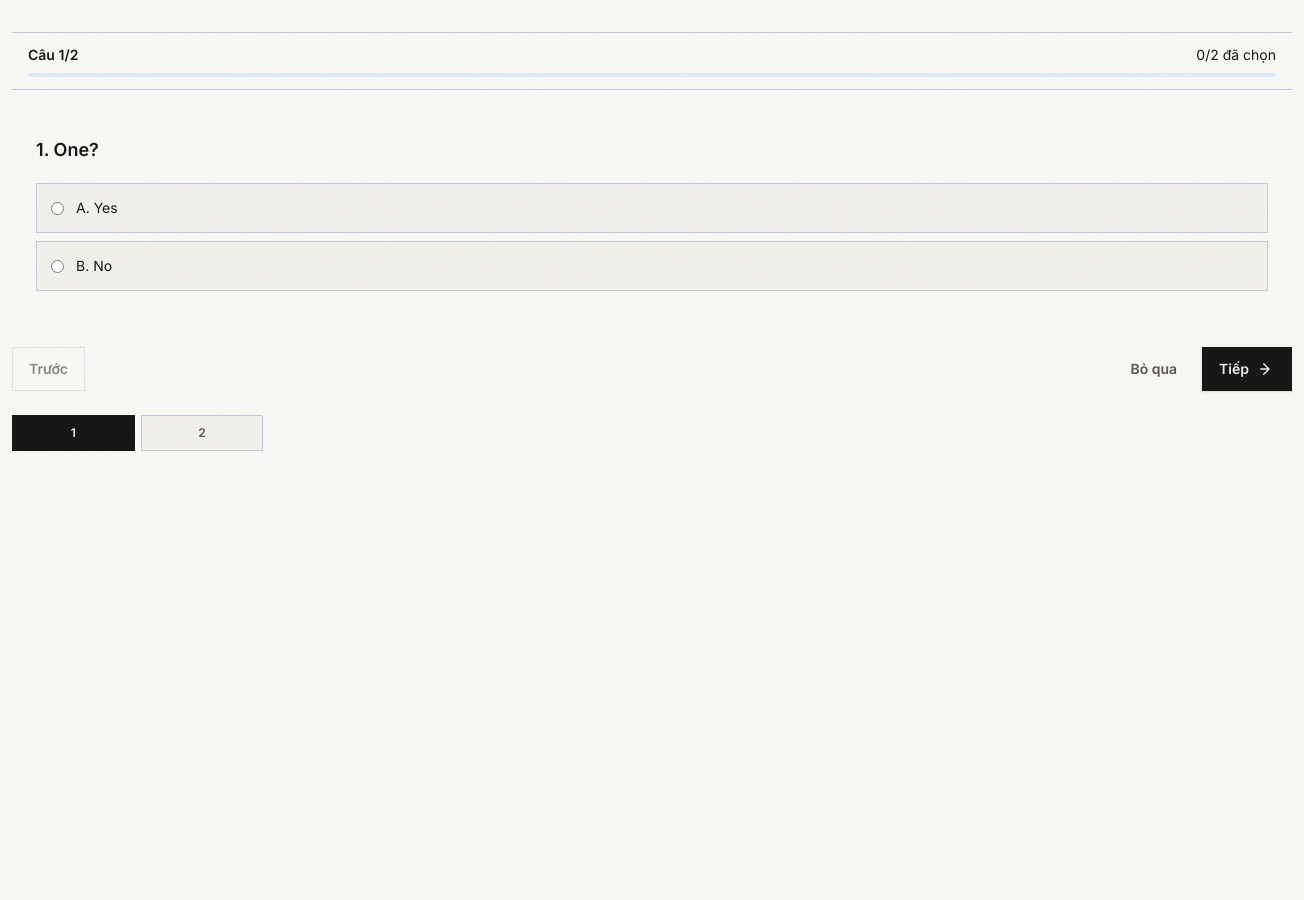
Test: TestRunner › saves guest attempts without asking for login
Click the radio button labelled "A. Yes" at [58, 208], box [51,202,64,215]
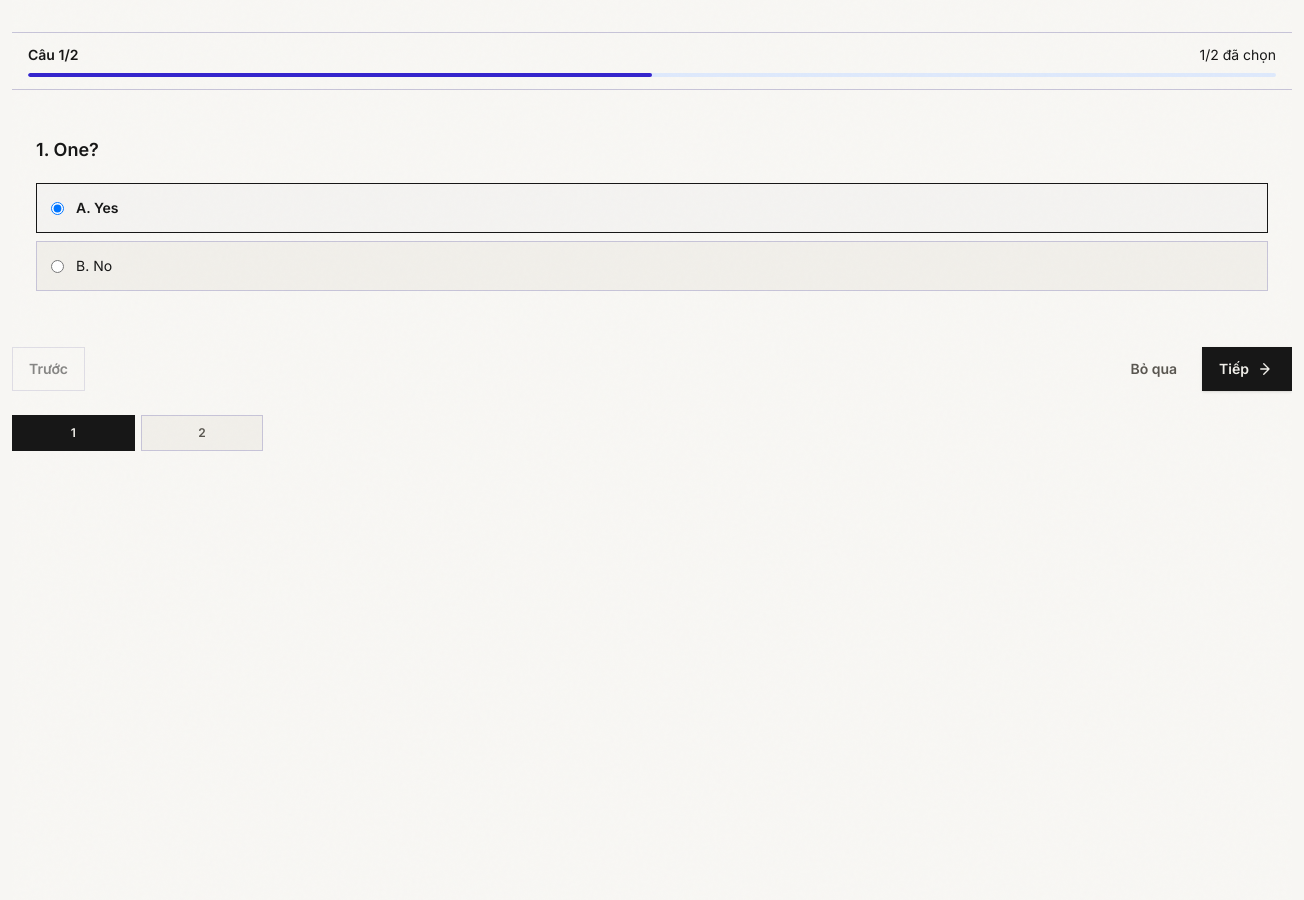
Click the button "Tiếp" at [1247, 369], box [1202,347,1292,391]
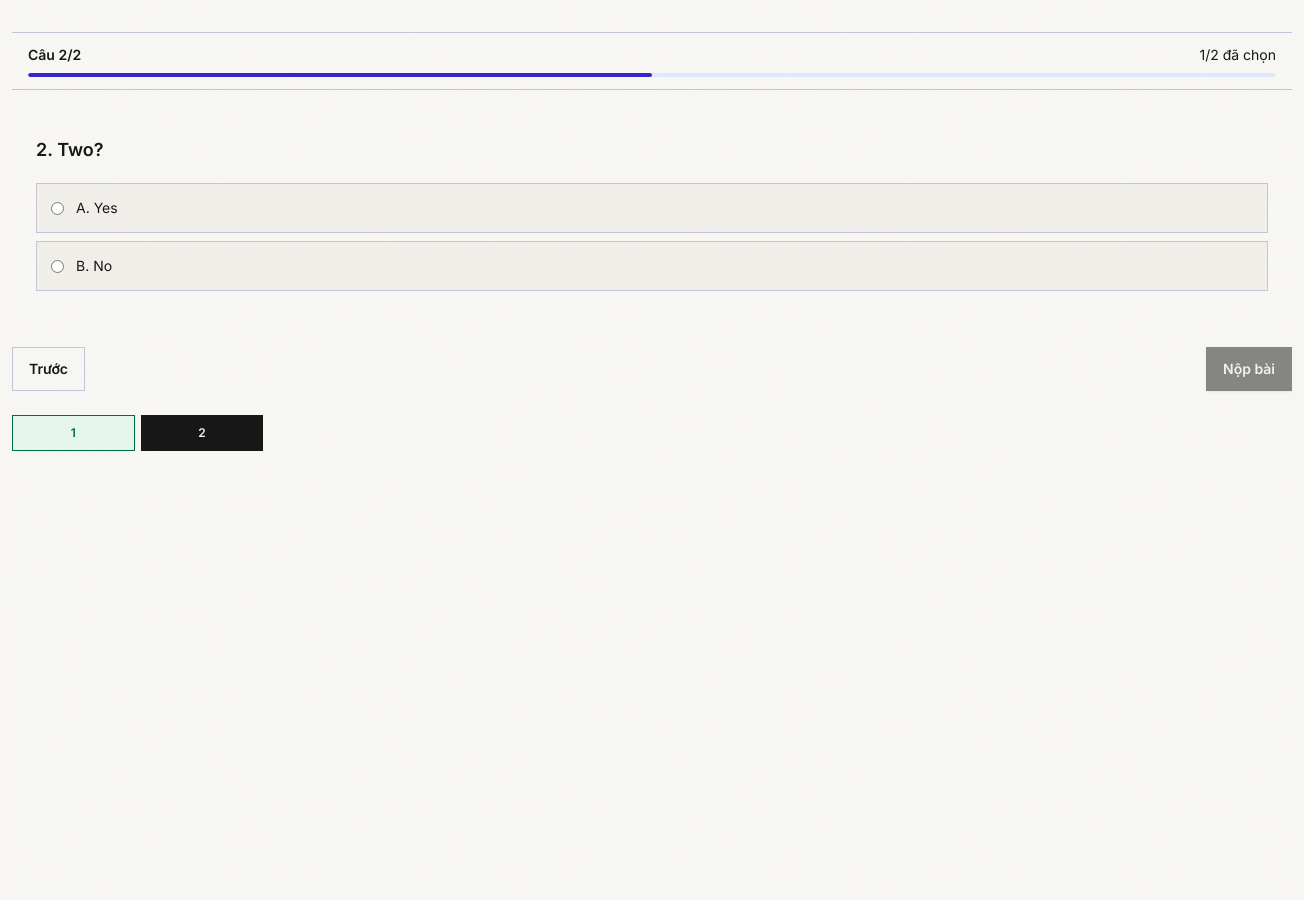
Click the radio button labelled "A. Yes" at [58, 208], box [51,202,64,215]
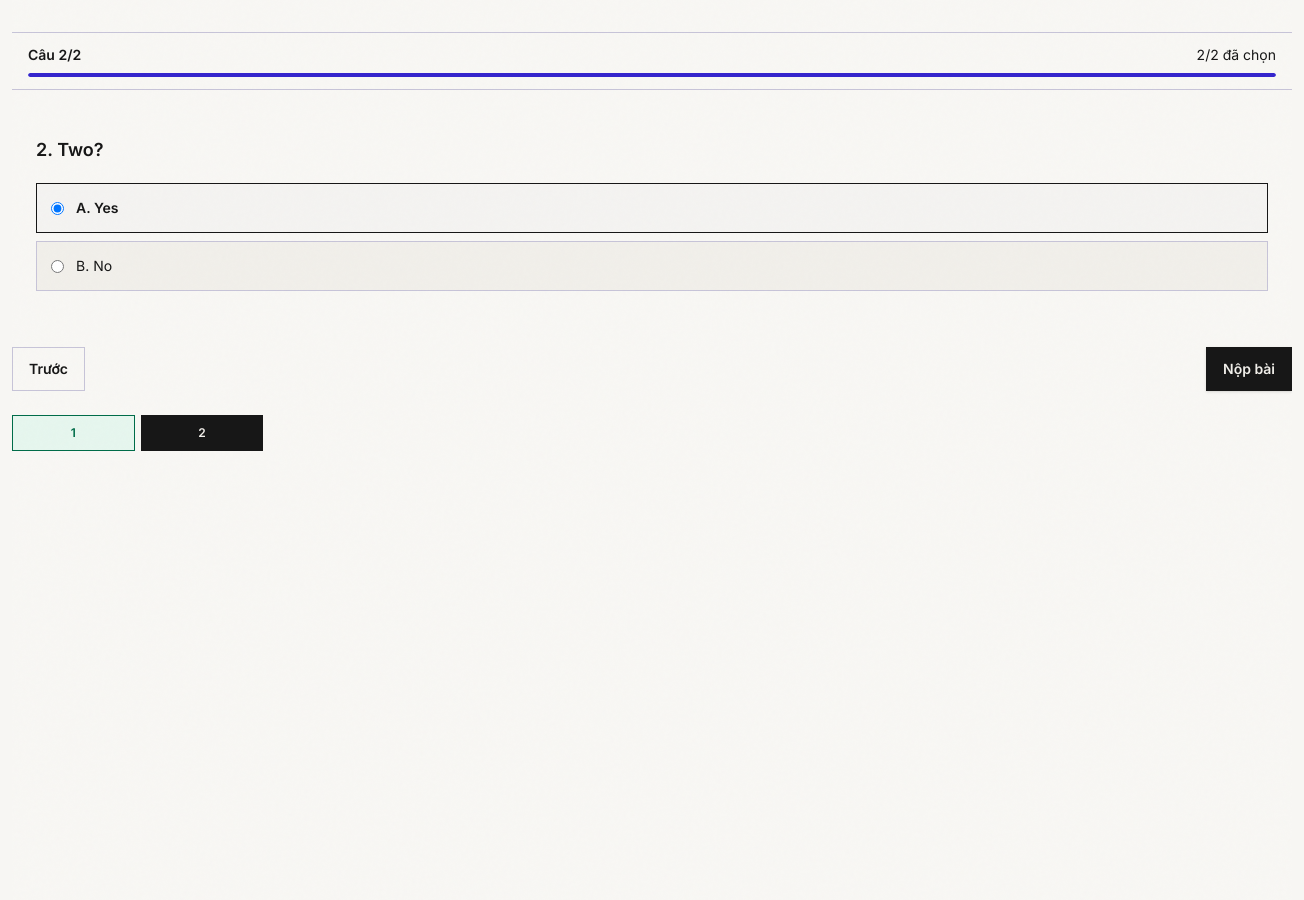
Click the button "Nộp bài" at [1249, 369], box [1206,347,1292,391]
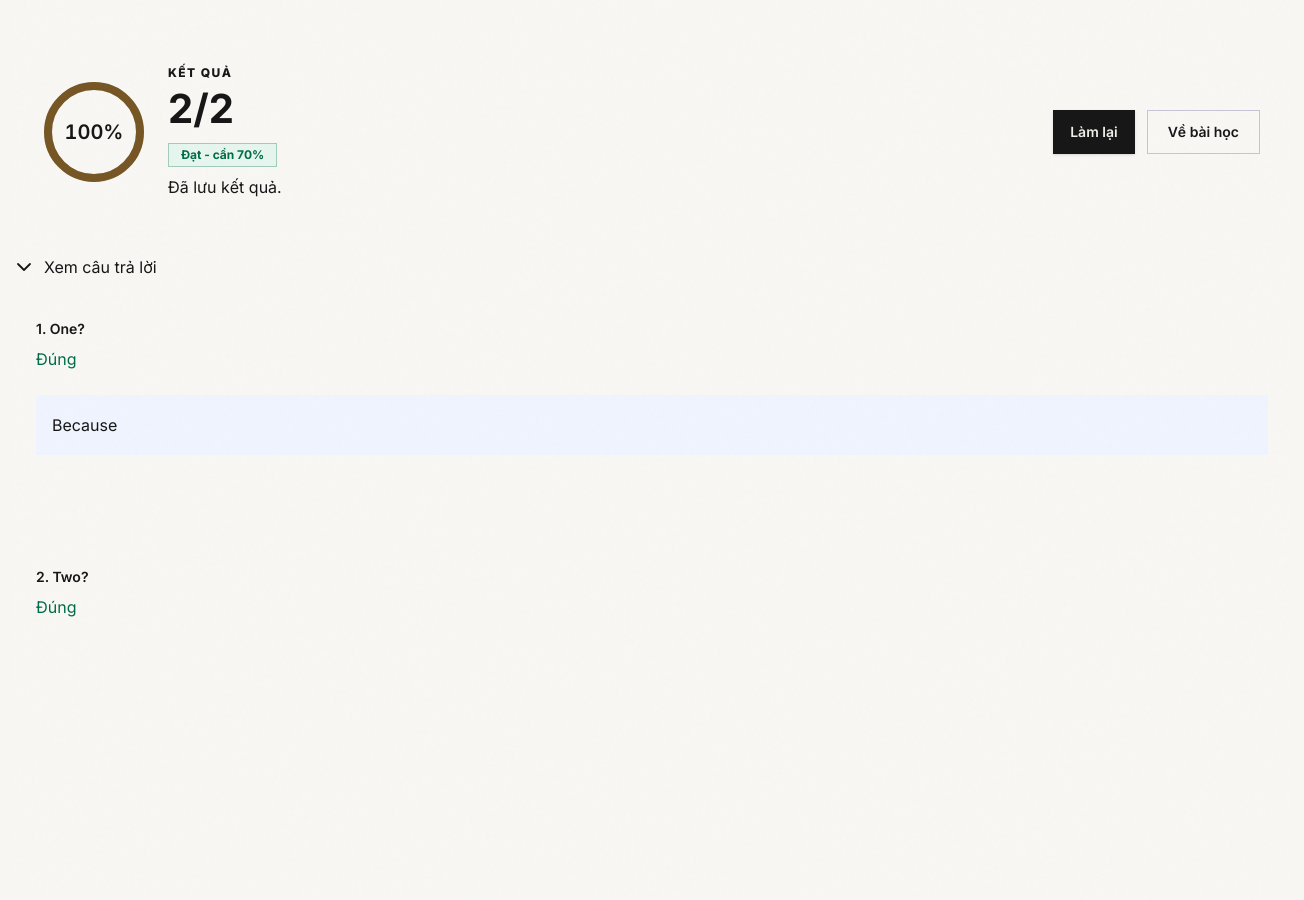
Expected: the element with test id "my-class-test-result" is shown
Expected: the text "Đã lưu kết quả." is shown, [168,177,282,197]
